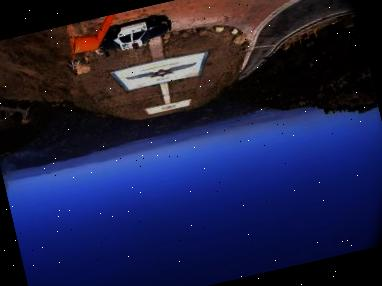smoke: (0, 136, 83, 197)
